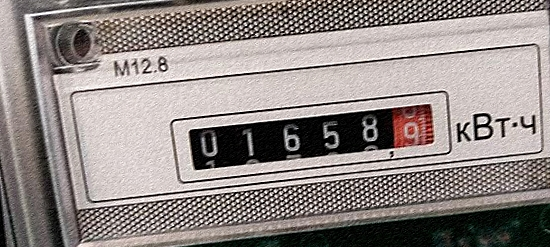0: (196, 126, 221, 160)
1: (240, 126, 257, 158)
5: (320, 118, 342, 152)
6: (280, 121, 303, 154)
8: (359, 112, 381, 145)
9: (400, 119, 420, 147)
screen: (161, 81, 459, 190)
